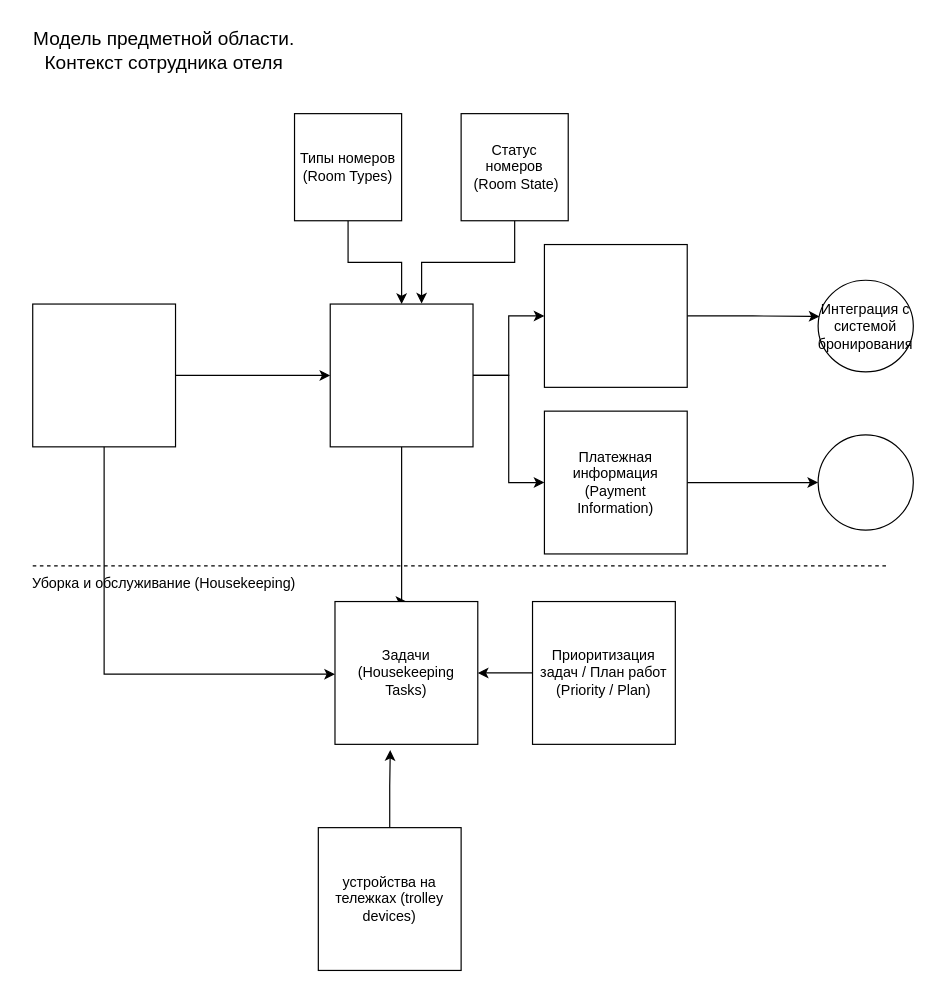
This 934x991 diagram has some shape labels left out. Each missing label, with the box of its shape:
Интеграция с платежной системой.: (817, 434, 913, 530)
Номер (Room): (329, 303, 473, 447)
Правила бронирования (Reservation Rules): (543, 243, 687, 387)
Сотрудник отеля (Hotel Staff): (32, 303, 176, 447)
